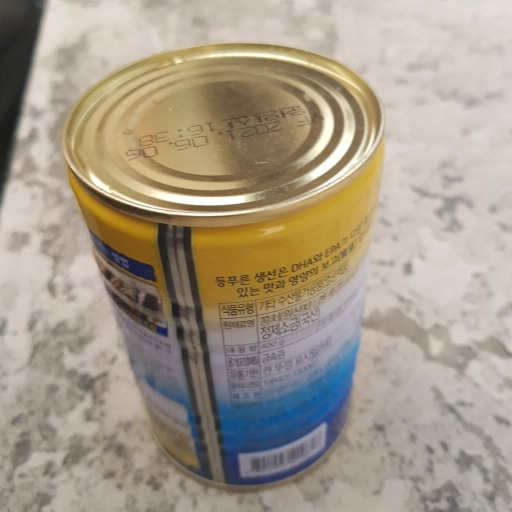Metal_1: (59, 39, 385, 491)
